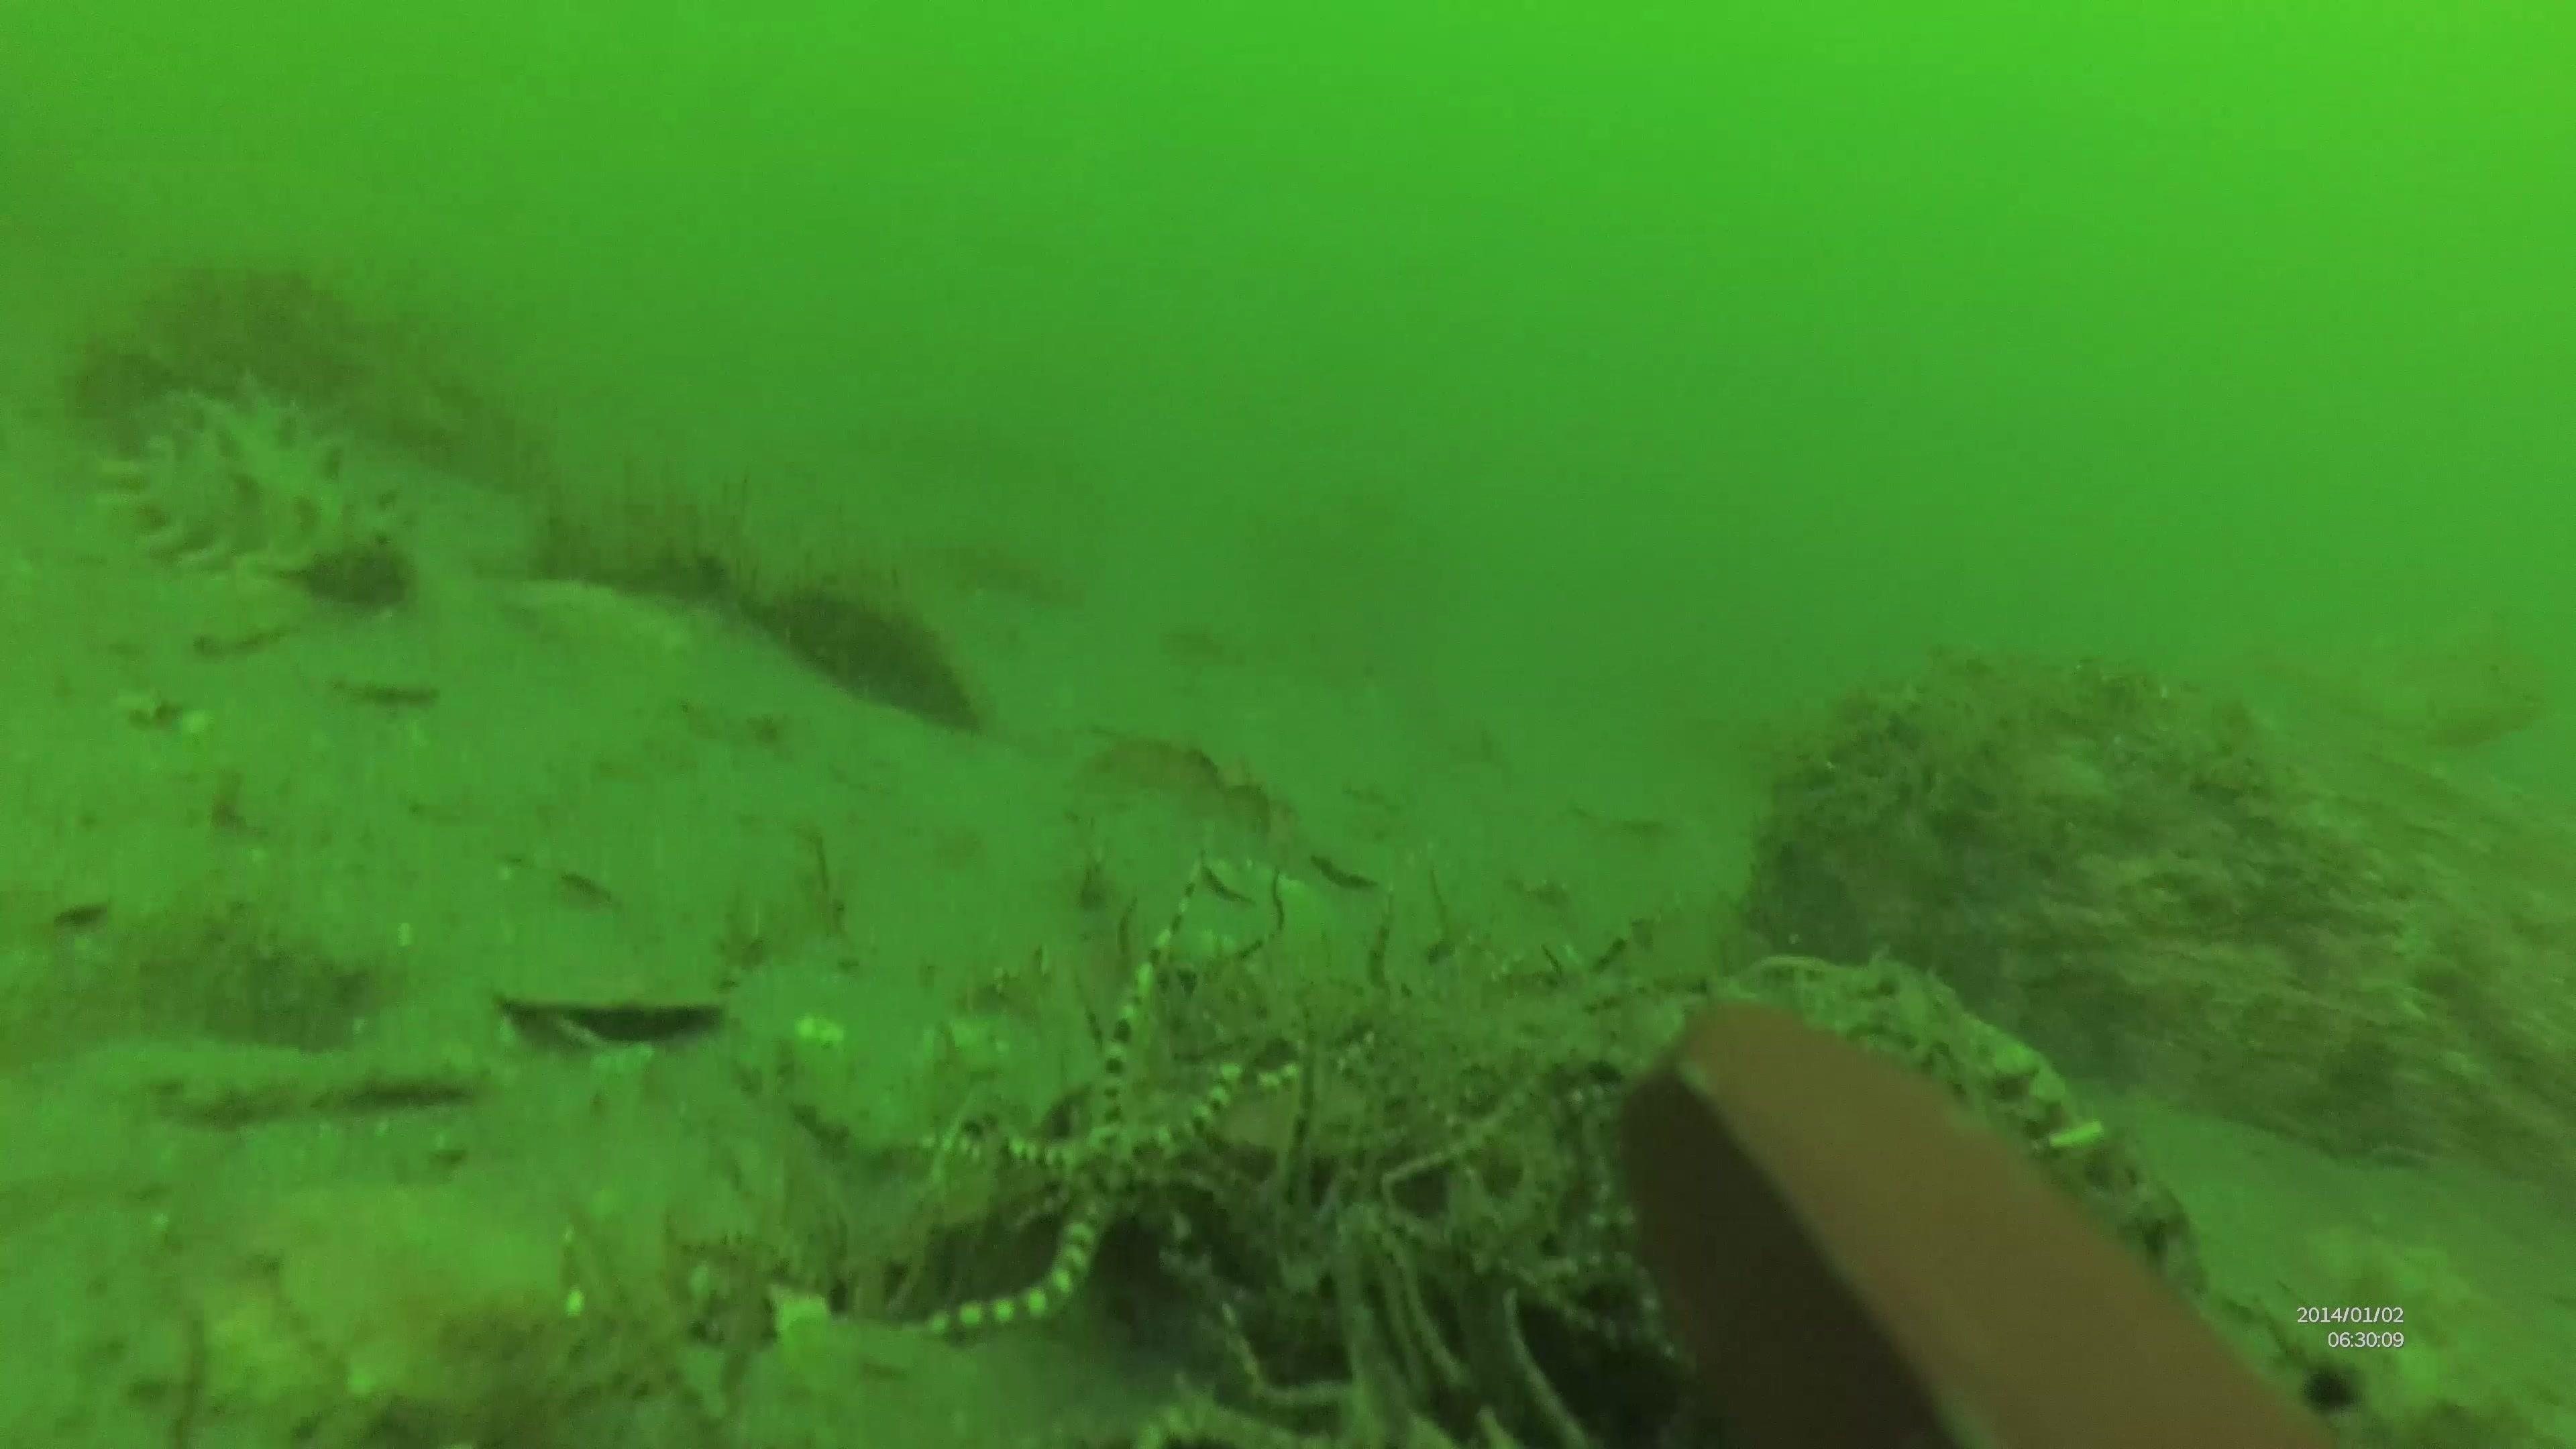holothurian: (94, 380, 419, 610)
scallop: (492, 936, 731, 1049)
